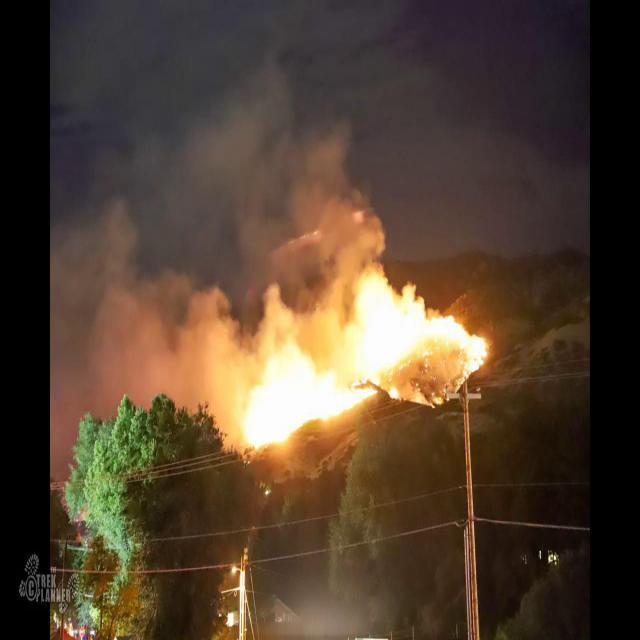Fire: (244, 268, 487, 446)
